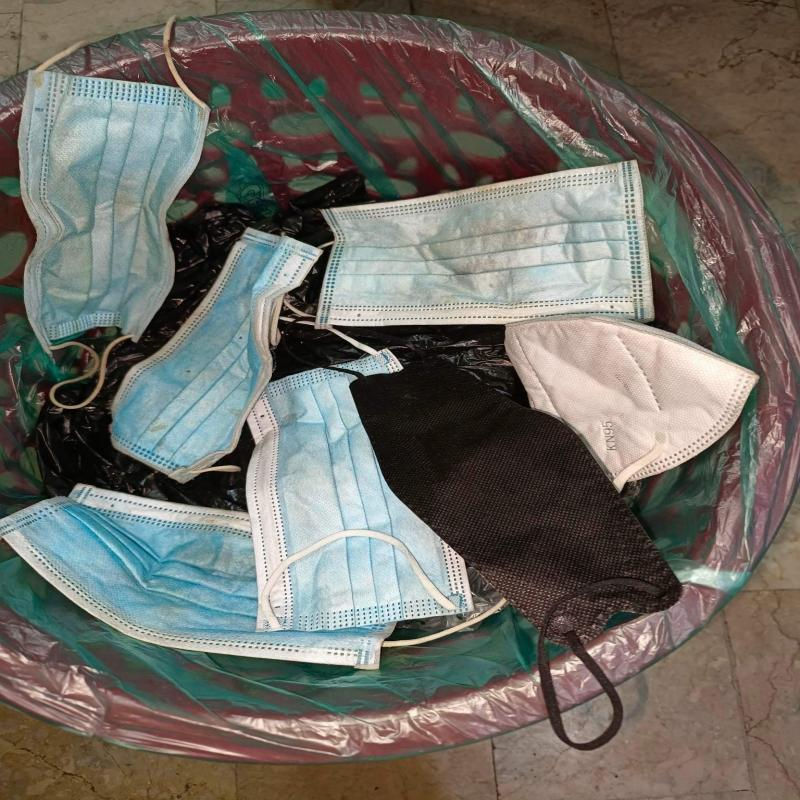facemask: (351, 362, 684, 754), (0, 485, 394, 671), (18, 40, 210, 410), (245, 350, 474, 632), (316, 160, 657, 330), (108, 229, 323, 485), (503, 318, 760, 493)
